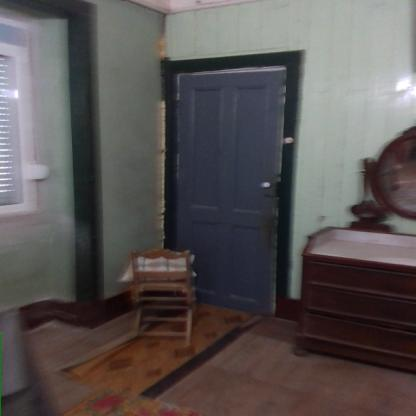closed: (152, 43, 316, 317)
